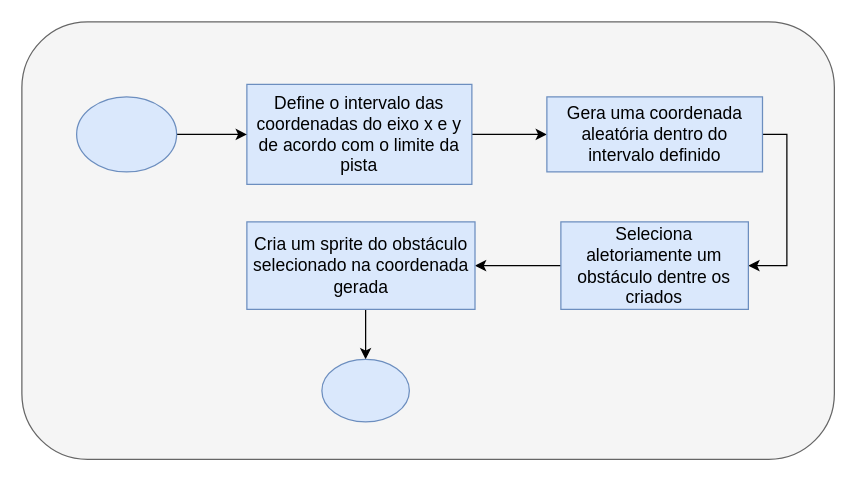
The diagram is 856 pixels wide and 481 high, and some of its shapes have lost their labels. Each missing label, with the centre of its shape:
"Fim" belongs at pixel 365 390.
"Início" belongs at pixel 126 134.
